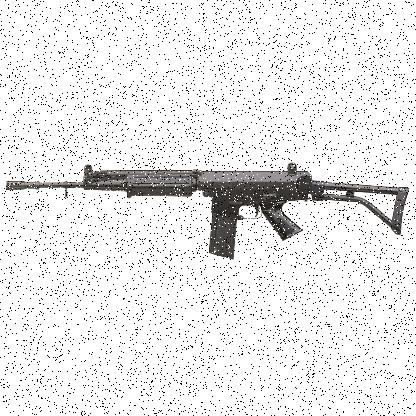gun: (6, 160, 408, 258)
